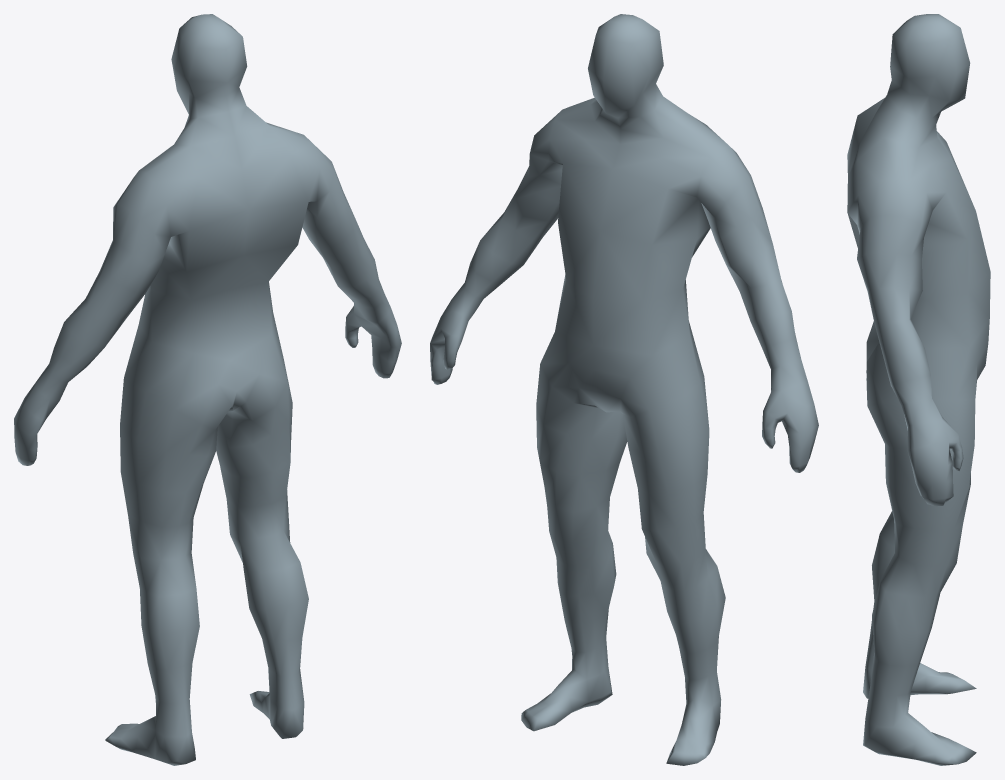
The model's file is Chara-Standing.fbx.
3 views of the same model, side by side, from view 1: azimuth 30°, elevation 25°; view 2: azimuth 150°, elevation 25°; view 3: azimuth 270°, elevation 25° (orthographic).
Visible parts, largest first — view 1: Body_LP.001; view 2: Body_LP.001; view 3: Body_LP.001.
Part boxes in pixels (bbox=[...]): Body_LP.001: bbox=[14, 14, 401, 765]; Body_LP.001: bbox=[430, 14, 818, 765]; Body_LP.001: bbox=[847, 14, 990, 765].
Size of the model in its own units: 100 by 182 by 33.21.
